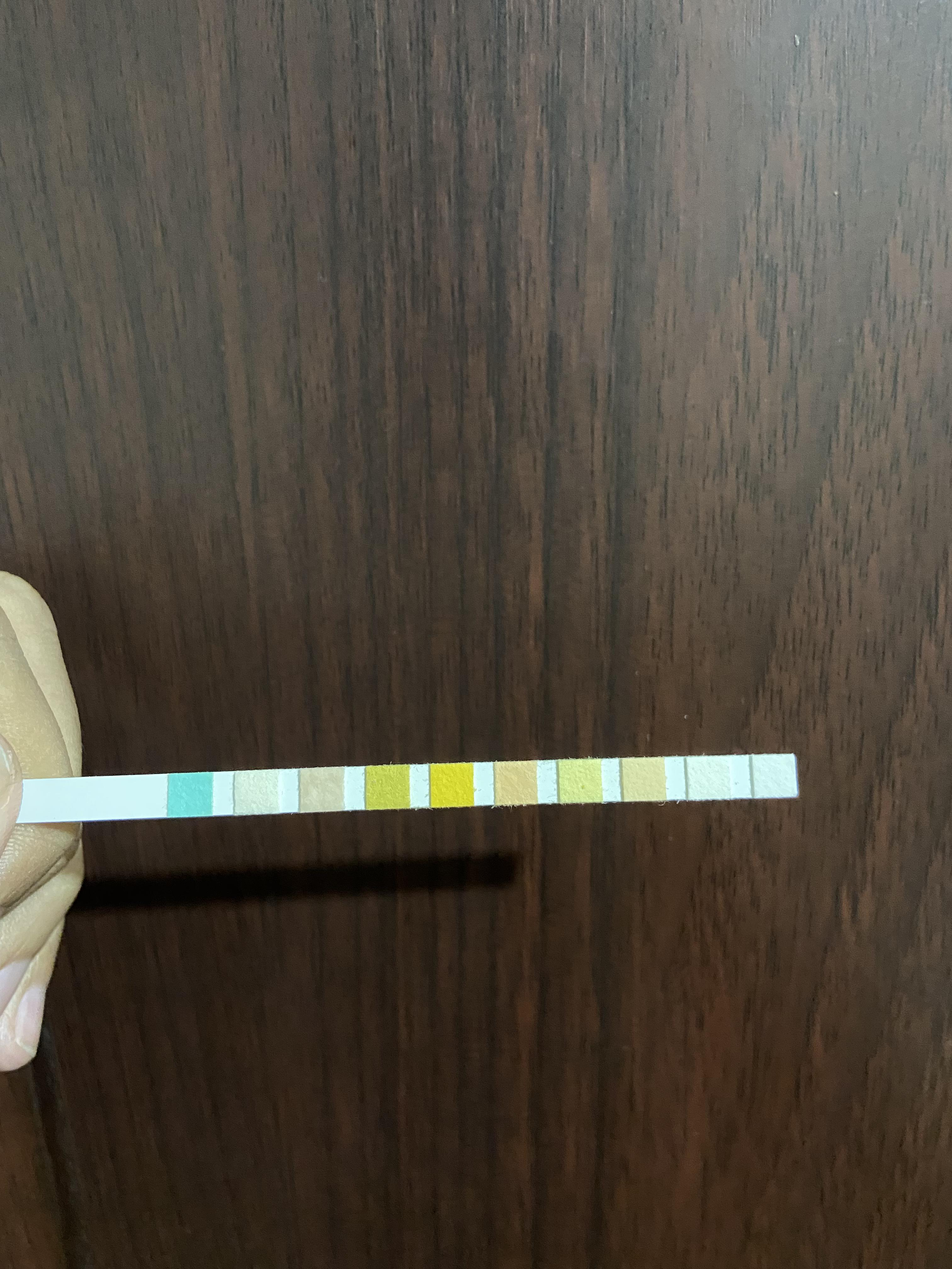Bilirubin: (235, 773, 277, 813)
Blood: (431, 764, 473, 804)
Glucose: (169, 774, 211, 814)
Ketone: (301, 768, 343, 808)
Leukocytes: (752, 755, 794, 796)
Nitrite: (688, 758, 730, 798)
Protein: (558, 761, 601, 801)
SpGravity: (367, 768, 409, 808)
Urobilinogen: (622, 759, 664, 800)
pH: (494, 763, 536, 803)
strip: (17, 753, 798, 823)
